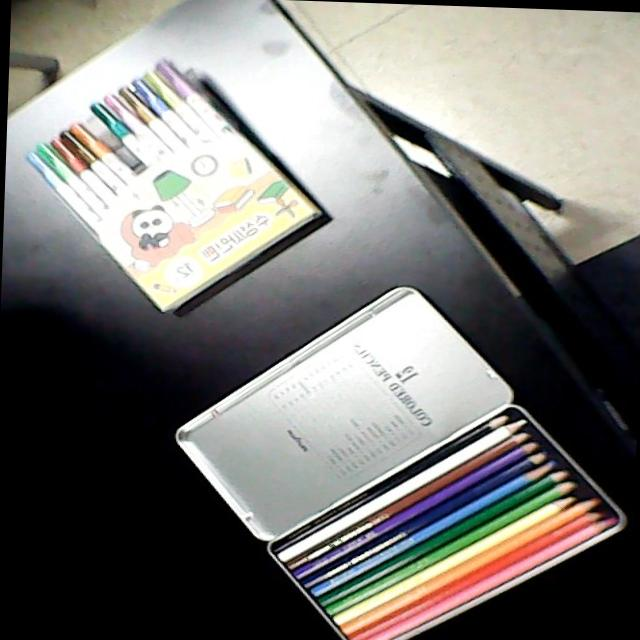color: (263, 395, 632, 640)
signpen: (16, 48, 336, 323)
